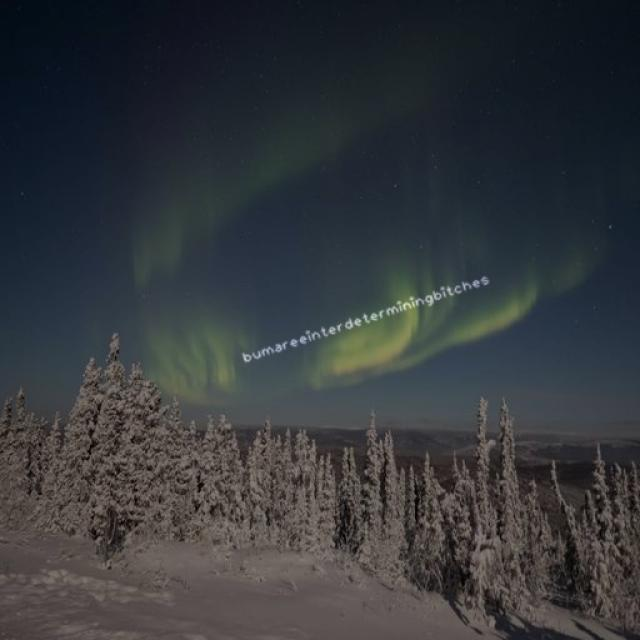watermark: (239, 271, 490, 364)
